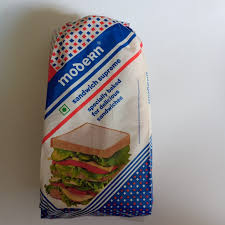bread: (46, 13, 149, 219)
